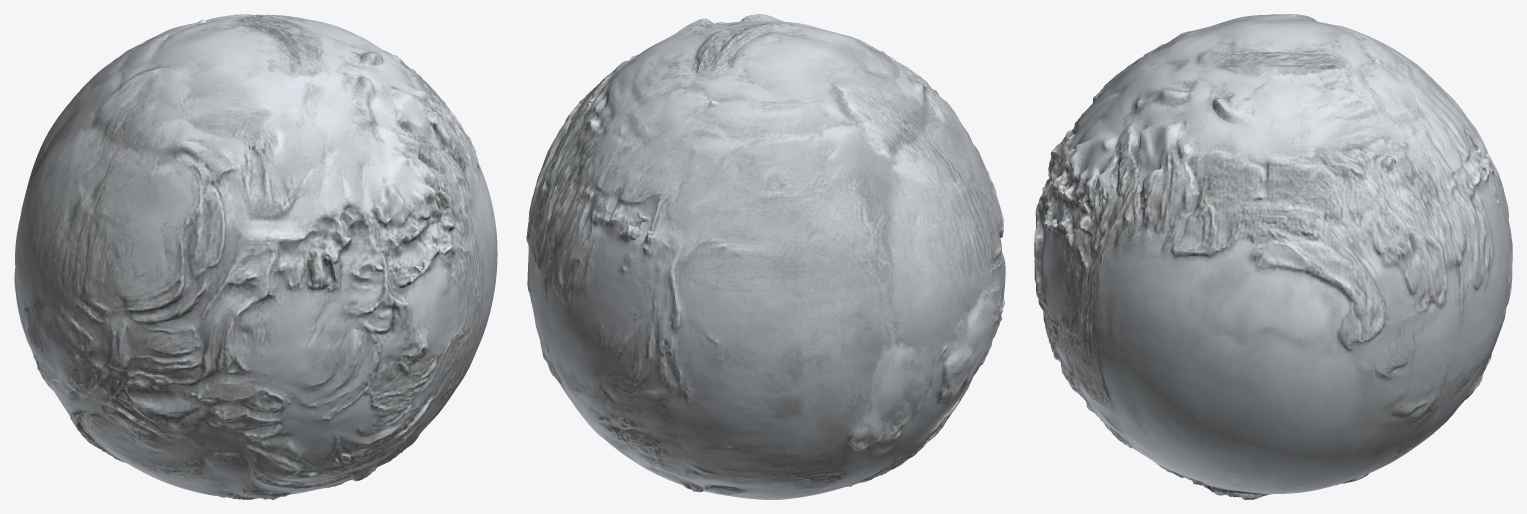
3 renders of one model, left to right at view 1: azimuth 30°, elevation 25°; view 2: azimuth 150°, elevation 25°; view 3: azimuth 270°, elevation 25°, orthographic.
Visible parts, largest first — view 1: world; view 2: world; view 3: world.
Boxes of the visible parts, x1,y1,x2,y2 form: world: (14,14,497,499); world: (526,14,1005,499); world: (1034,14,1512,499).
Bounding box in the file's own units: 1 × 1 × 1.
Materials: 1 (1 with a texture image).
